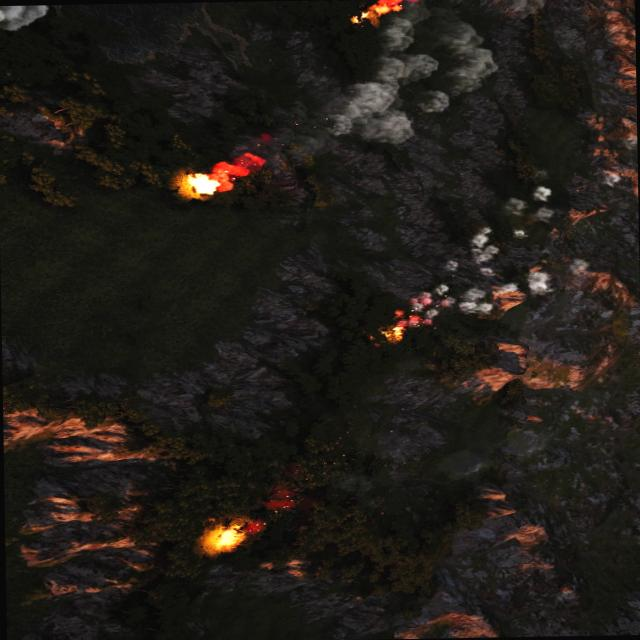fire: (179, 170, 222, 197), (351, 0, 400, 23), (206, 526, 244, 552), (364, 327, 402, 348)
smoke: (318, 5, 500, 146), (397, 184, 559, 330), (211, 132, 272, 180), (264, 488, 296, 510)
